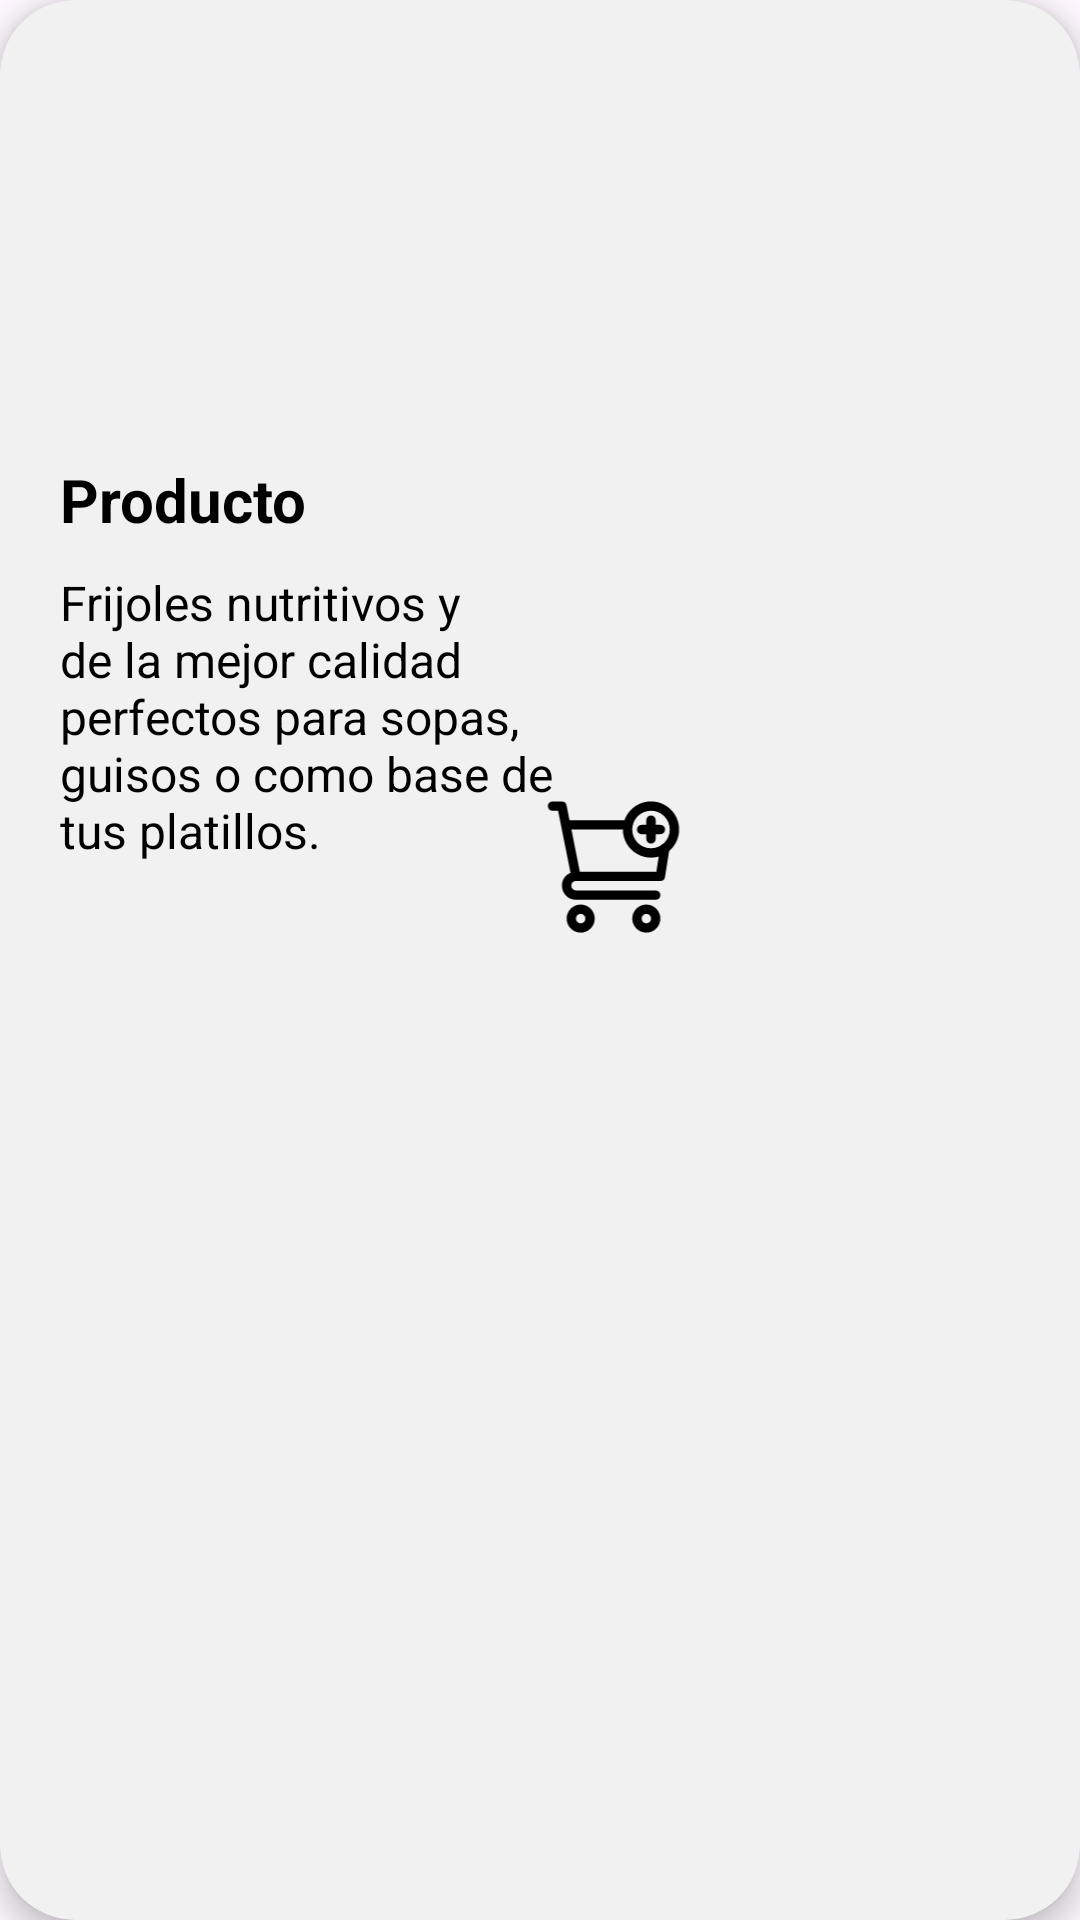

Named icons in this screenshot (1080px x 1920px) and their bounding boxes, (x1, y1, x2, y2):
carrito add: (547, 801, 680, 933)
